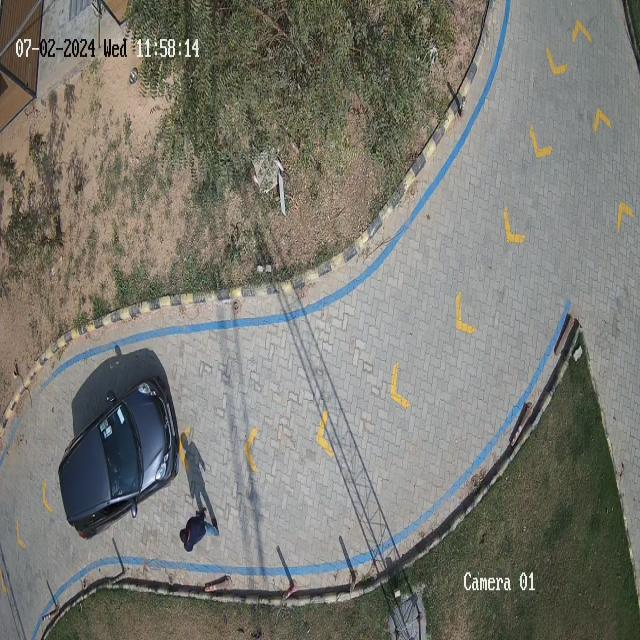car: (59, 378, 179, 538)
